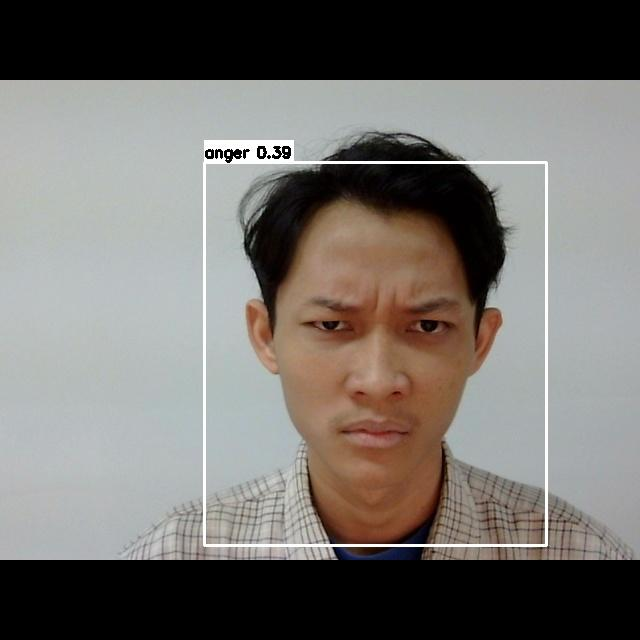Angry: (274, 258, 485, 466)
